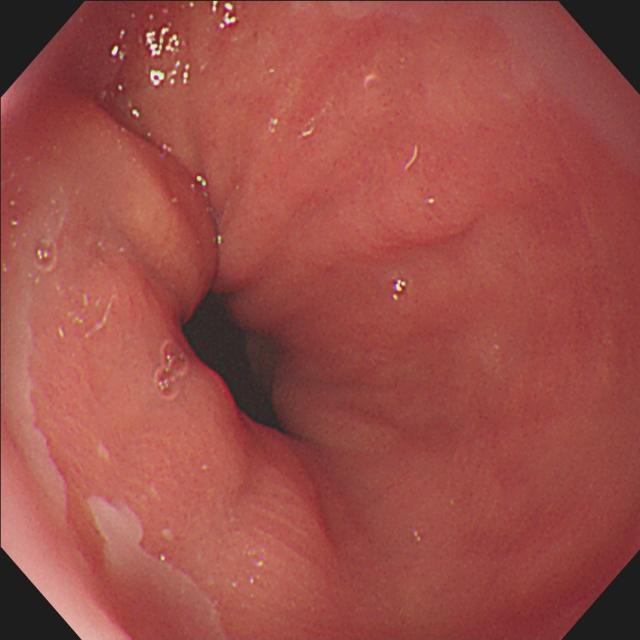T: (153, 338, 193, 403), (32, 237, 63, 277)
U: (143, 27, 183, 59), (148, 63, 191, 89), (211, 2, 239, 32), (111, 29, 127, 63), (392, 279, 408, 303), (130, 106, 141, 122)
